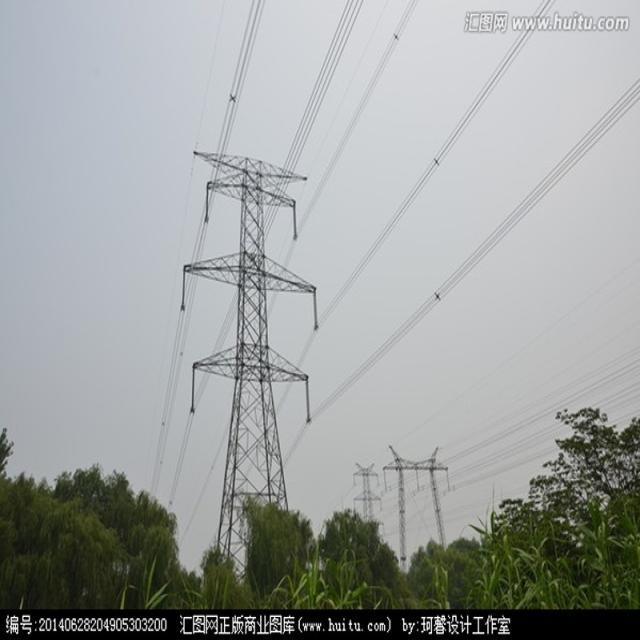non-critical vegetation: (174, 137, 316, 600), (382, 443, 453, 586), (346, 449, 386, 548)
